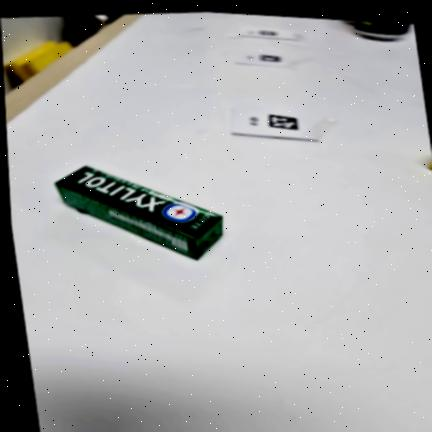gum_green: (55, 166, 223, 259)
